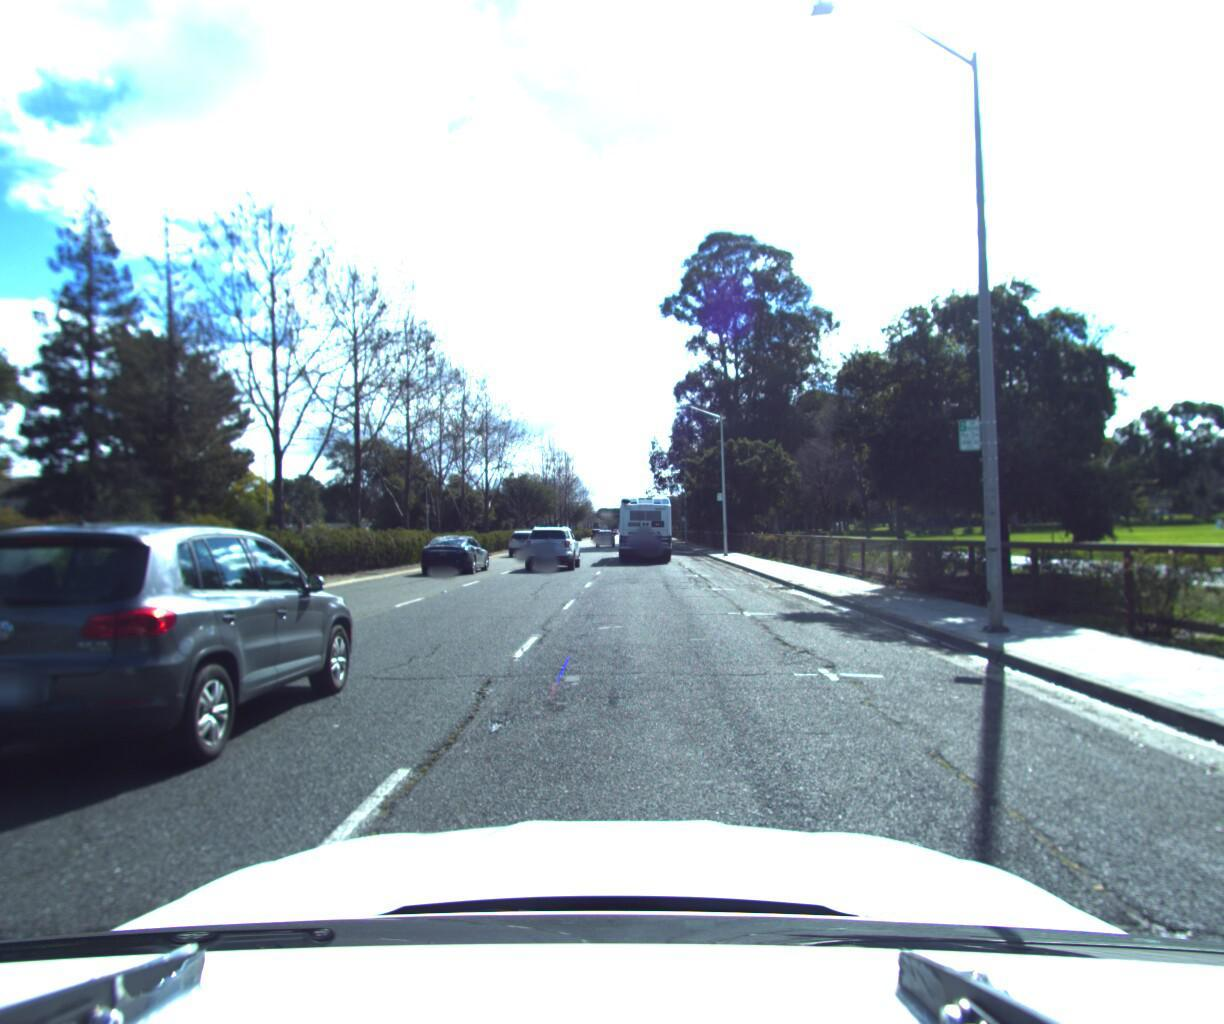bus: (615, 487, 678, 561)
car: (0, 514, 373, 800), (419, 534, 491, 575), (523, 523, 583, 570), (506, 525, 548, 552), (596, 526, 617, 547)
